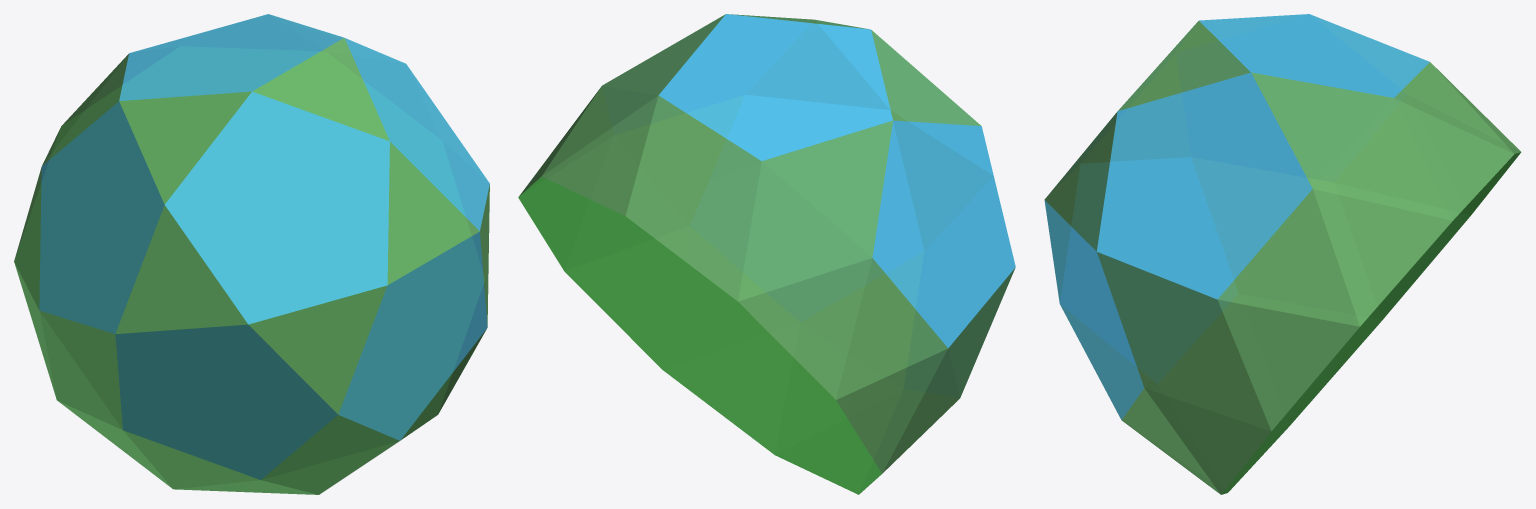
The model's file is j25_gyroelongated_pentagonal_rotunda.obj.
3 views of the same model, side by side, from view 1: azimuth 30°, elevation 25°; view 2: azimuth 150°, elevation 25°; view 3: azimuth 270°, elevation 25° (orthographic).
Size of the model in its own units: 1.94 by 1.96 by 1.93.
